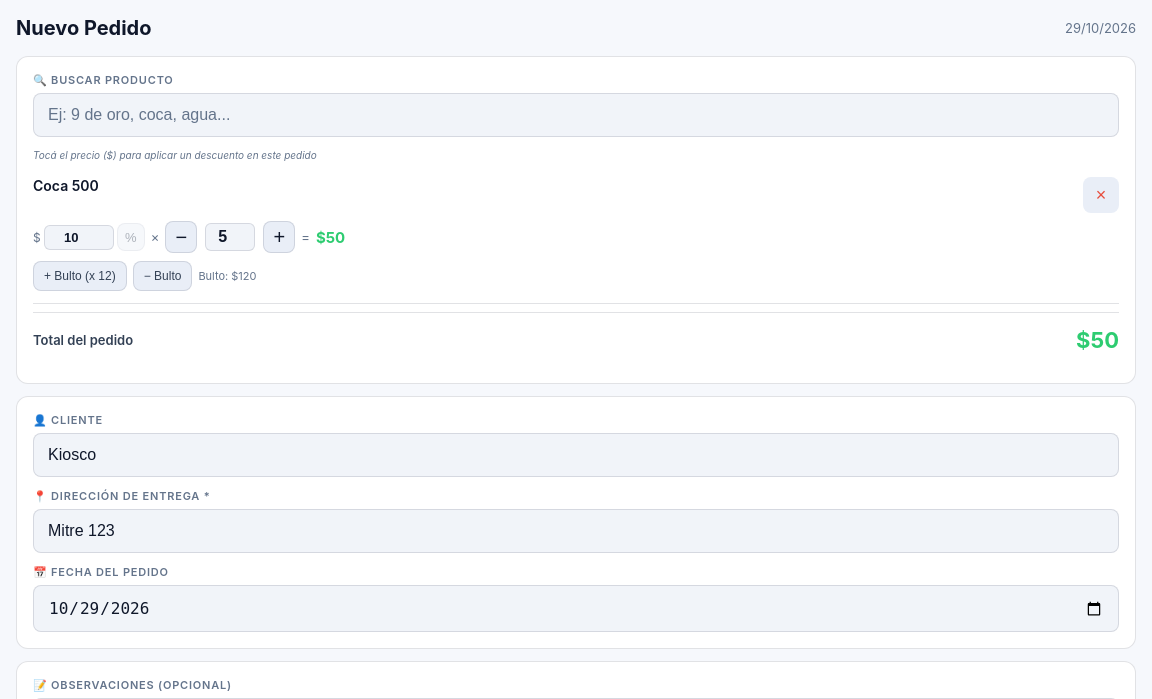
REQ-BUL Nuevo Pedido › AC-BUL-2 renglón en 5 + 3 toques de bulto x12 queda en 41
Click the button with test id "bulto-mas" at (80, 276), box [33, 261, 127, 291]
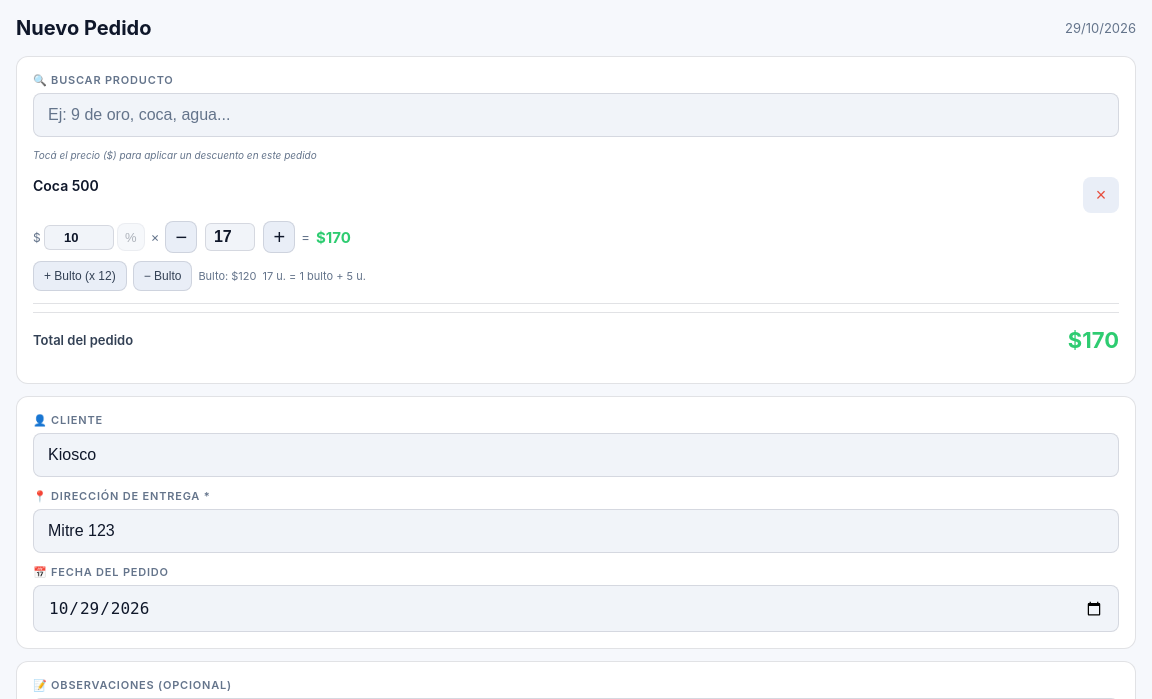
Click the button with test id "bulto-mas" at (80, 276), box [33, 261, 127, 291]
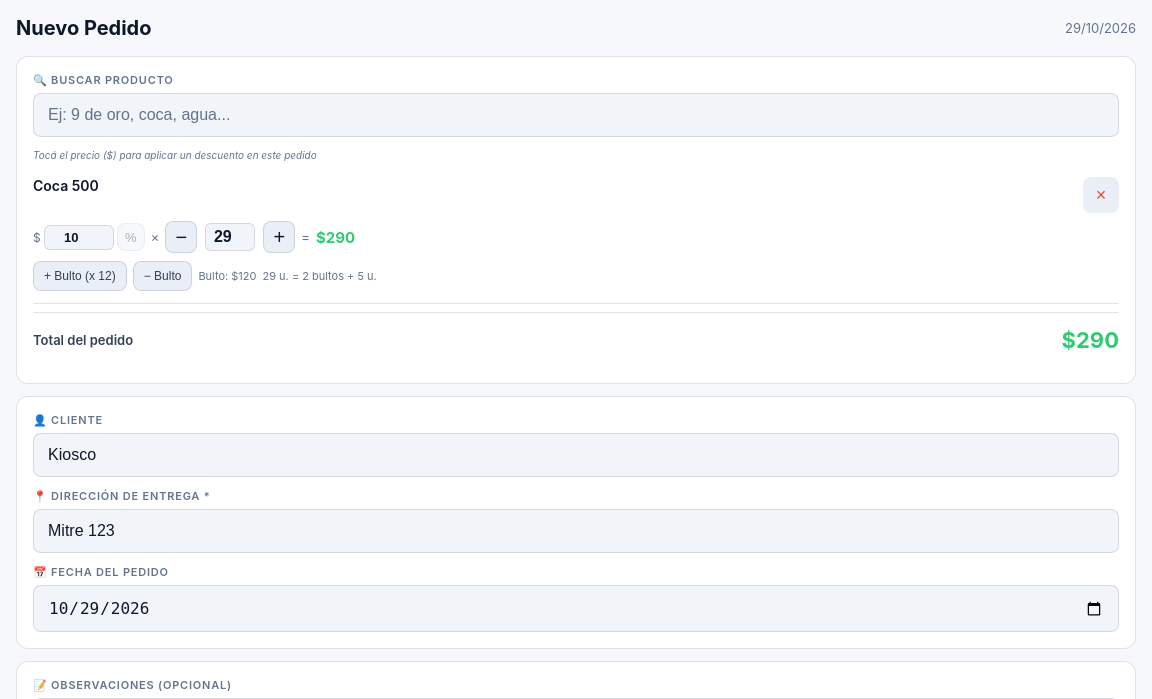
Click the button with test id "bulto-mas" at (80, 276), box [33, 261, 127, 291]
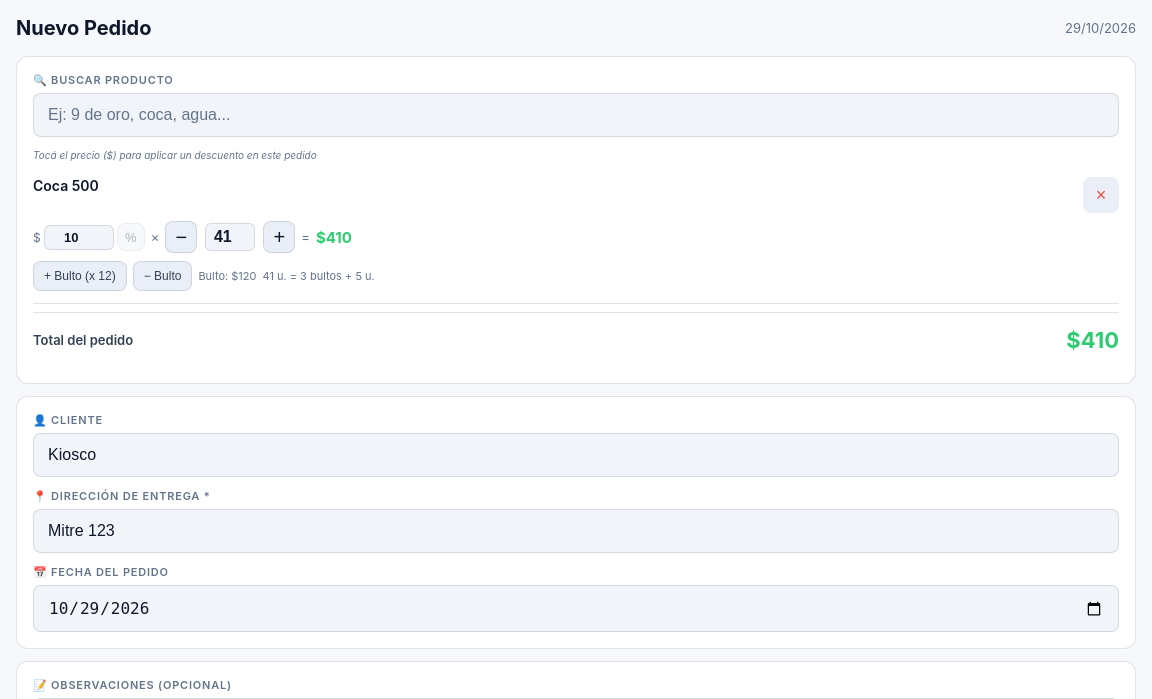
expect the 2nd number field holds "41": met, box [205, 223, 255, 251]
expect the text with test id "bulto-desglose" reads "41 u. = 3 bultos + 5 u.": met, box [262, 269, 375, 283]
